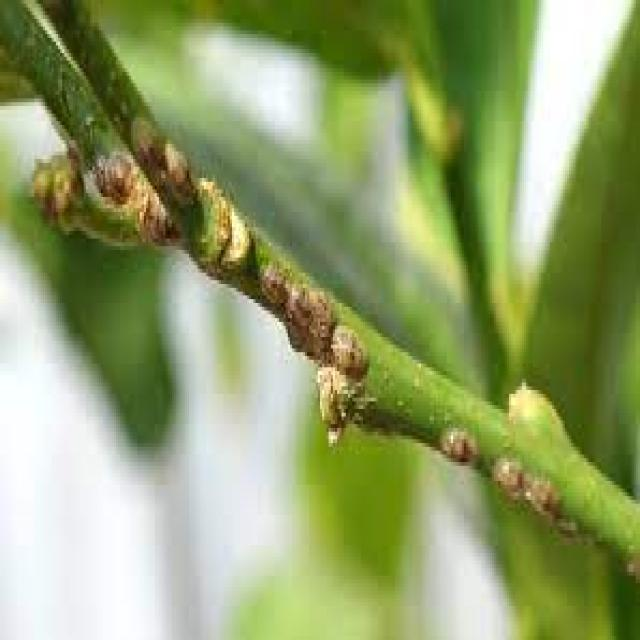scale_insect: (154, 128, 196, 200), (324, 318, 368, 375), (516, 466, 560, 522), (253, 254, 294, 314), (125, 102, 161, 170), (279, 277, 309, 352), (488, 443, 526, 500), (434, 416, 477, 466), (103, 140, 133, 201), (88, 144, 112, 197)
